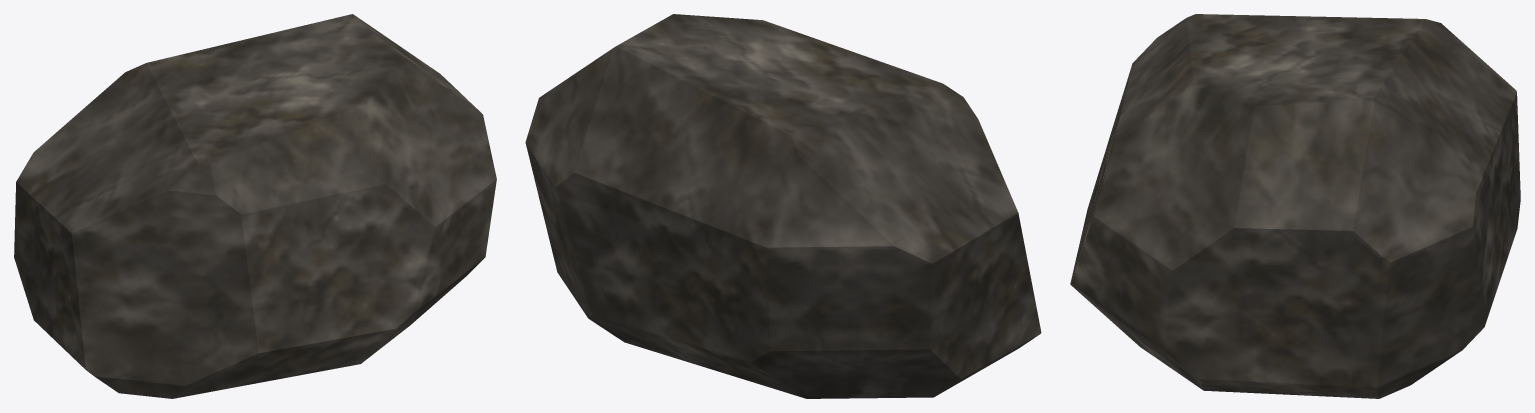
Rendered from Rocha-01-Macica.glb.
The picture shows the model from 3 angles, left to right: view 1: azimuth 30°, elevation 25°; view 2: azimuth 150°, elevation 25°; view 3: azimuth 270°, elevation 25°; orthographic projection. The views are drawn at different scales.
Parts seen in each view (by area): view 1: Maciça; view 2: Maciça; view 3: Maciça.
Part boxes in pixels (box(x1,y1,x2,y2)): Maciça: box(14, 14, 496, 398); Maciça: box(525, 14, 1041, 398); Maciça: box(1070, 14, 1520, 398).
Bounding box in the file's own units: 2.72 × 1.62 × 2.21.
1 material, 1 textured.
